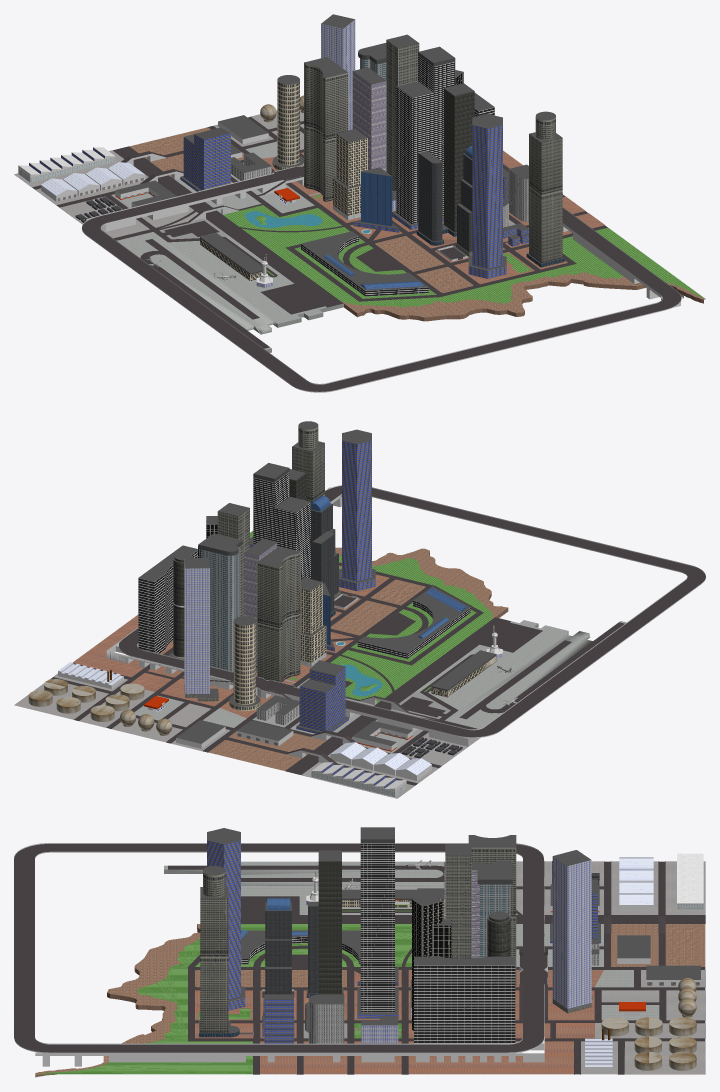
Rendered from City.FBX.
3 views of the same model, one above another, from view 1: azimuth 30°, elevation 25°; view 2: azimuth 150°, elevation 25°; view 3: azimuth 270°, elevation 25° (orthographic). The views are drawn at different scales.
Visible parts, largest first — view 1: Alley, Highway Road, Road, Grass, Skyscrapper_17, Skyscrapper_18, Skyscrapper_2, Skyscrapper_12, Skyscrapper_1, Dirt, Hospital, Skyscrapper_11 (+20 smaller); view 2: Alley, Road, Highway Road, Grass, Skyscrapper_12, Skyscrapper_2, Skyscrapper_17, Skyscrapper_10, Skyscrapper_15, Skyscrapper_6, Silos, Building_1 (+24 smaller); view 3: Alley, Highway Road, Road, Skyscrapper_6, Skyscrapper_17, Grass, Skyscrapper_15, Skyscrapper_1, Dirt, Skyscrapper_18, Highway002, Silos (+21 smaller).
Part boxes in pixels (x1=…): Alley: x1=14, y1=110, x2=604, y2=352; Highway Road: x1=81, y1=163, x2=681, y2=392; Road: x1=113, y1=116, x2=607, y2=348; Grass: x1=223, y1=194, x2=704, y2=307; Skyscrapper_17: x1=392, y1=46, x2=455, y2=229; Skyscrapper_18: x1=416, y1=83, x2=474, y2=245; Skyscrapper_2: x1=468, y1=114, x2=506, y2=278; Skyscrapper_12: x1=304, y1=57, x2=348, y2=201; Skyscrapper_1: x1=526, y1=111, x2=564, y2=267; Dirt: x1=150, y1=152, x2=705, y2=321; Hospital: x1=301, y1=231, x2=428, y2=296; Skyscrapper_11: x1=352, y1=67, x2=386, y2=171; Alley: x1=14, y1=565, x2=626, y2=798; Road: x1=50, y1=562, x2=624, y2=774; Highway Road: x1=118, y1=485, x2=705, y2=737; Grass: x1=250, y1=531, x2=492, y2=703; Skyscrapper_12: x1=257, y1=546, x2=300, y2=682; Skyscrapper_2: x1=339, y1=429, x2=375, y2=591; Skyscrapper_17: x1=253, y1=463, x2=310, y2=579; Skyscrapper_10: x1=198, y1=533, x2=242, y2=671; Skyscrapper_15: x1=184, y1=557, x2=218, y2=701; Skyscrapper_6: x1=138, y1=545, x2=197, y2=653; Silos: x1=28, y1=679, x2=172, y2=735; Building_1: x1=296, y1=660, x2=348, y2=733; Alley: x1=109, y1=861, x2=705, y2=1074; Highway Road: x1=14, y1=843, x2=544, y2=1053; Road: x1=168, y1=865, x2=705, y2=1074; Skyscrapper_6: x1=414, y1=956, x2=515, y2=1043; Skyscrapper_17: x1=357, y1=827, x2=398, y2=1018; Grass: x1=36, y1=910, x2=411, y2=1074; Skyscrapper_15: x1=552, y1=850, x2=592, y2=1013; Skyscrapper_1: x1=199, y1=866, x2=252, y2=1037; Dirt: x1=35, y1=924, x2=658, y2=1077; Skyscrapper_18: x1=306, y1=850, x2=343, y2=997; Highway002: x1=35, y1=877, x2=547, y2=1066; Silos: x1=601, y1=977, x2=696, y2=1070.
Size of what is drawn, in the model's own units: 26287 by 10085 by 34649.
Materials: 40 (34 with a texture image).
